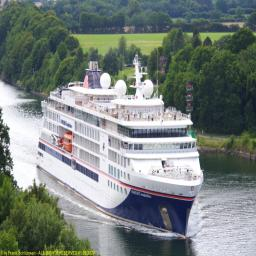cruises: (36, 53, 207, 242)
